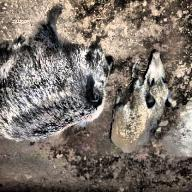boar: (0, 12, 125, 158)
